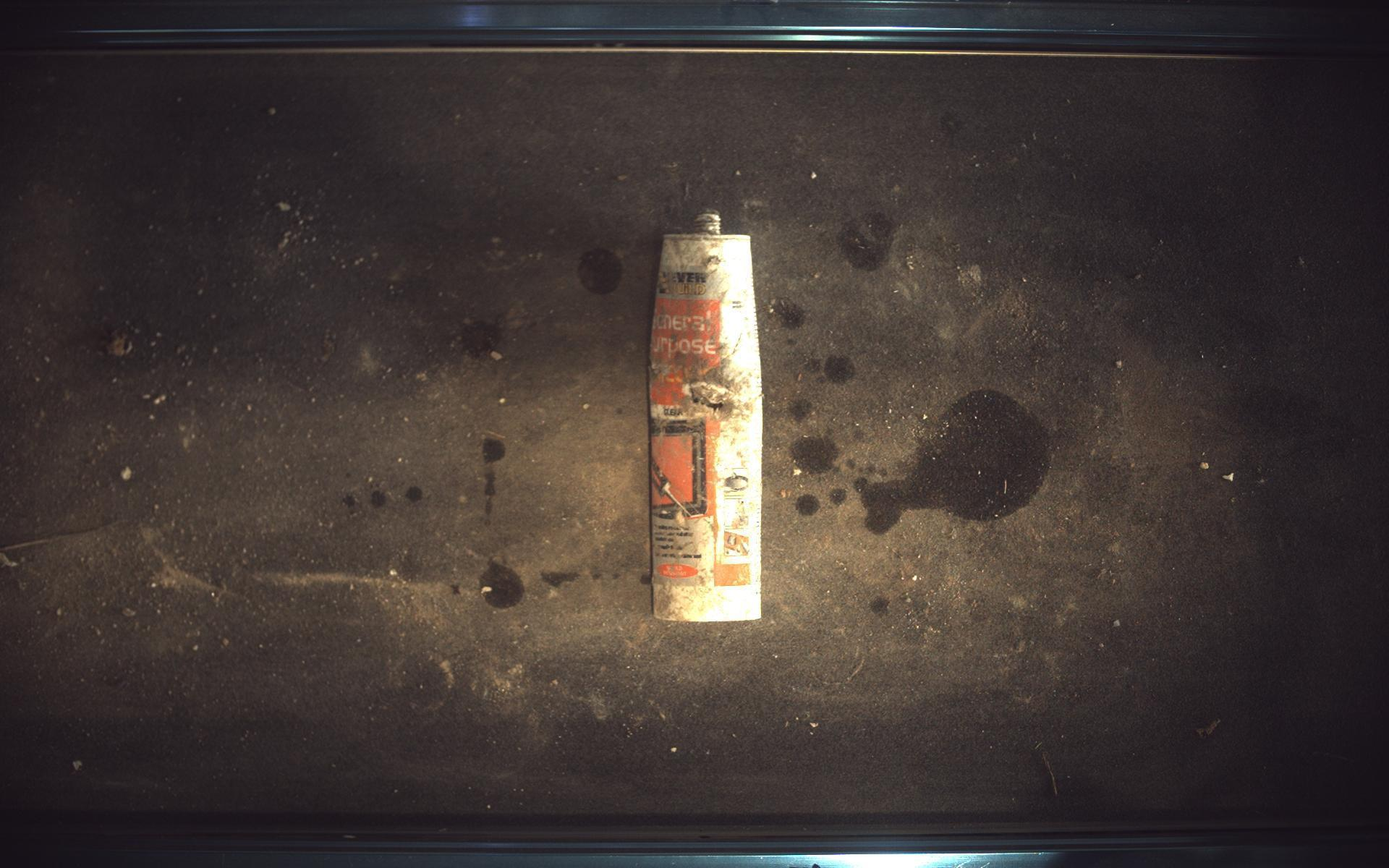plastic: (650, 210, 763, 622)
